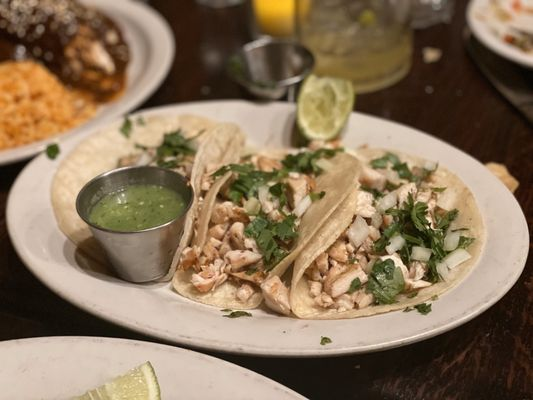curry: (367, 257, 406, 305)
pizza: (74, 164, 194, 284), (296, 0, 415, 95)
sushi: (0, 0, 176, 170), (76, 165, 194, 286), (224, 37, 316, 101)
